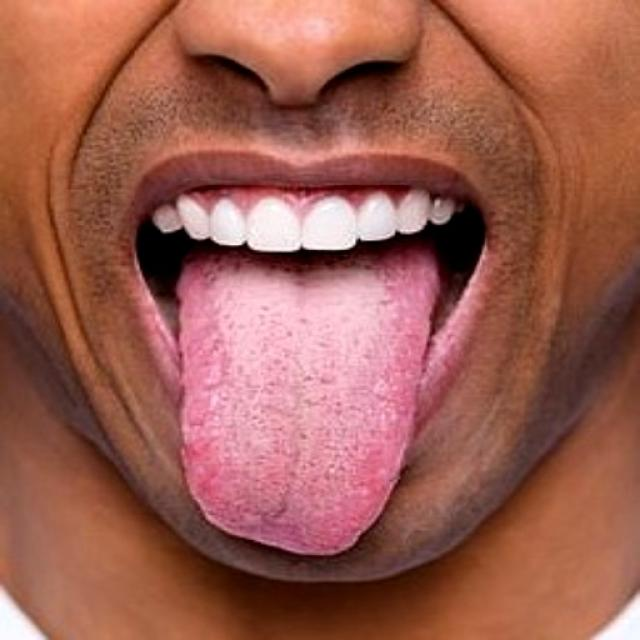processing_area: (180, 248, 443, 549)
